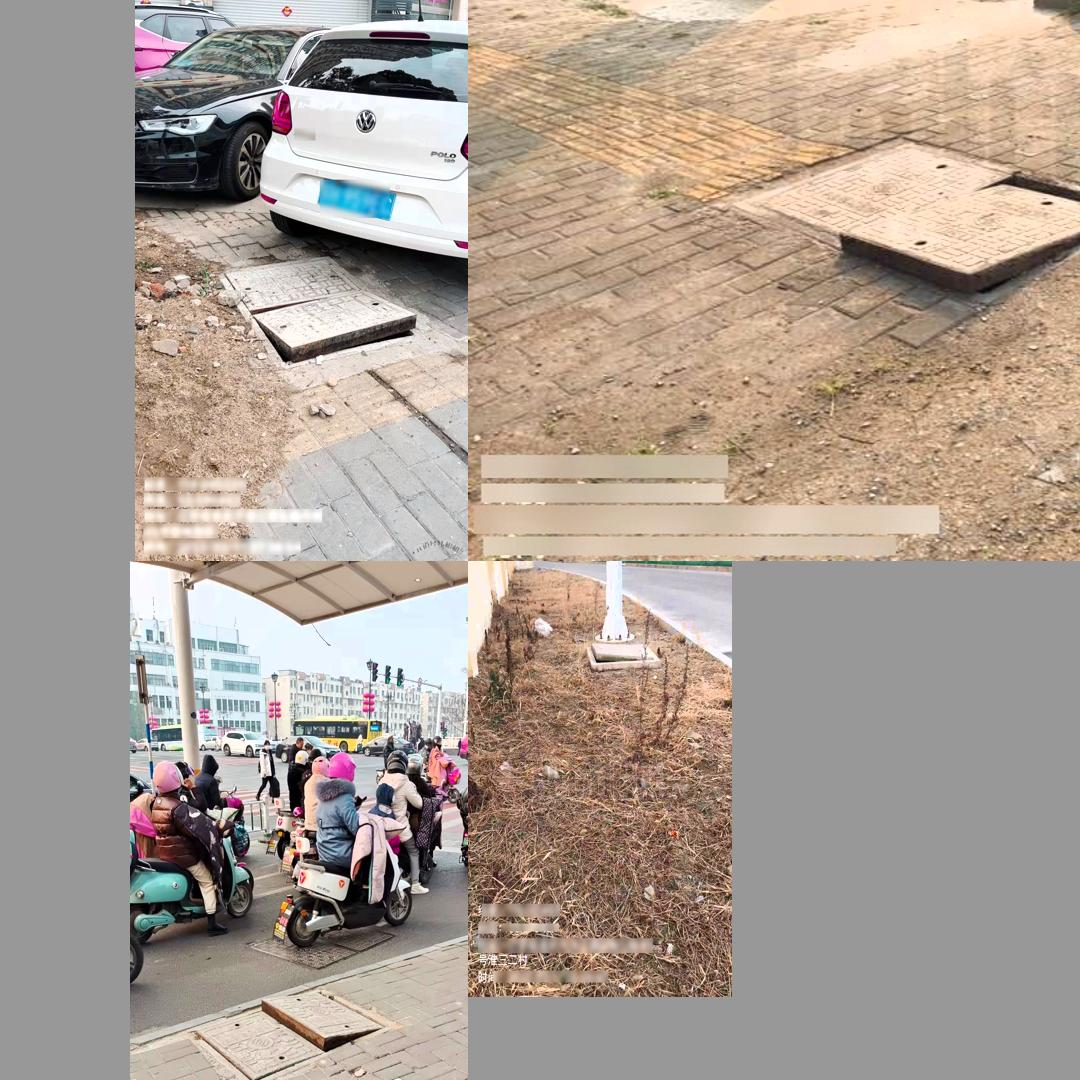uncovered: (735, 134, 1080, 282), (231, 266, 429, 384), (219, 979, 399, 1055), (586, 642, 660, 673)
